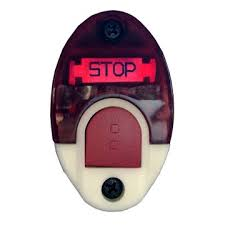bell: (47, 7, 177, 216)
